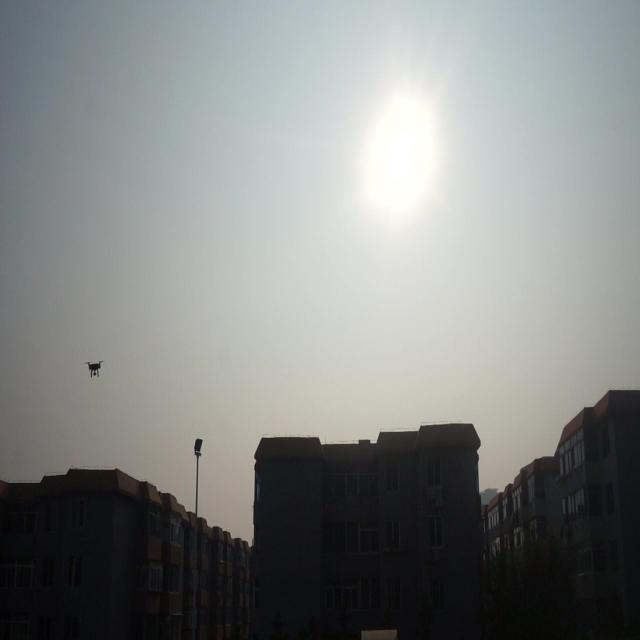drone: (82, 359, 106, 379)
